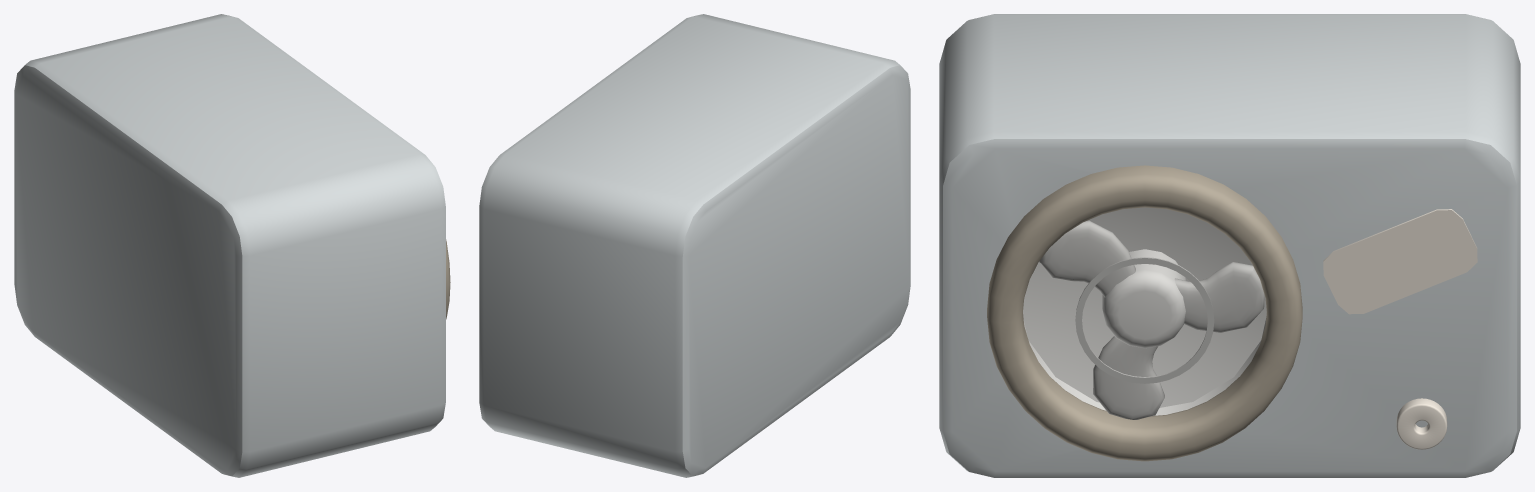
The model's file is aircon_0.glb.
3 views of the same model, side by side, from view 1: azimuth 30°, elevation 25°; view 2: azimuth 150°, elevation 25°; view 3: azimuth 270°, elevation 25° (orthographic). The views are drawn at different scales.
Visible parts, largest first — view 1: MeshBoolean_v1_1; view 2: MeshBoolean_v1_1; view 3: MeshBoolean_v1_1, 管道, 立方体_1, 圆柱_2, Retopo_多边形_2_3, Retopo_多边形_2_2, Retopo_多边形_2, 管道_1, 管道_3.
Boxes of the visible parts, <box> form: MeshBoolean_v1_1: <box>14,14,445,477</box>; MeshBoolean_v1_1: <box>479,14,910,477</box>; MeshBoolean_v1_1: <box>939,14,1520,477</box>; 管道: <box>987,165,1302,461</box>; 立方体_1: <box>1323,209,1477,314</box>; 圆柱_2: <box>1102,249,1185,348</box>; Retopo_多边形_2_3: <box>1174,262,1264,332</box>; Retopo_多边形_2_2: <box>1039,220,1135,297</box>; Retopo_多边形_2: <box>1093,336,1164,419</box>; 管道_1: <box>1075,257,1214,383</box>; 管道_3: <box>1396,398,1447,449</box>.
Bounding box in the file's own units: 0.0441 × 0.0499 × 0.076.
